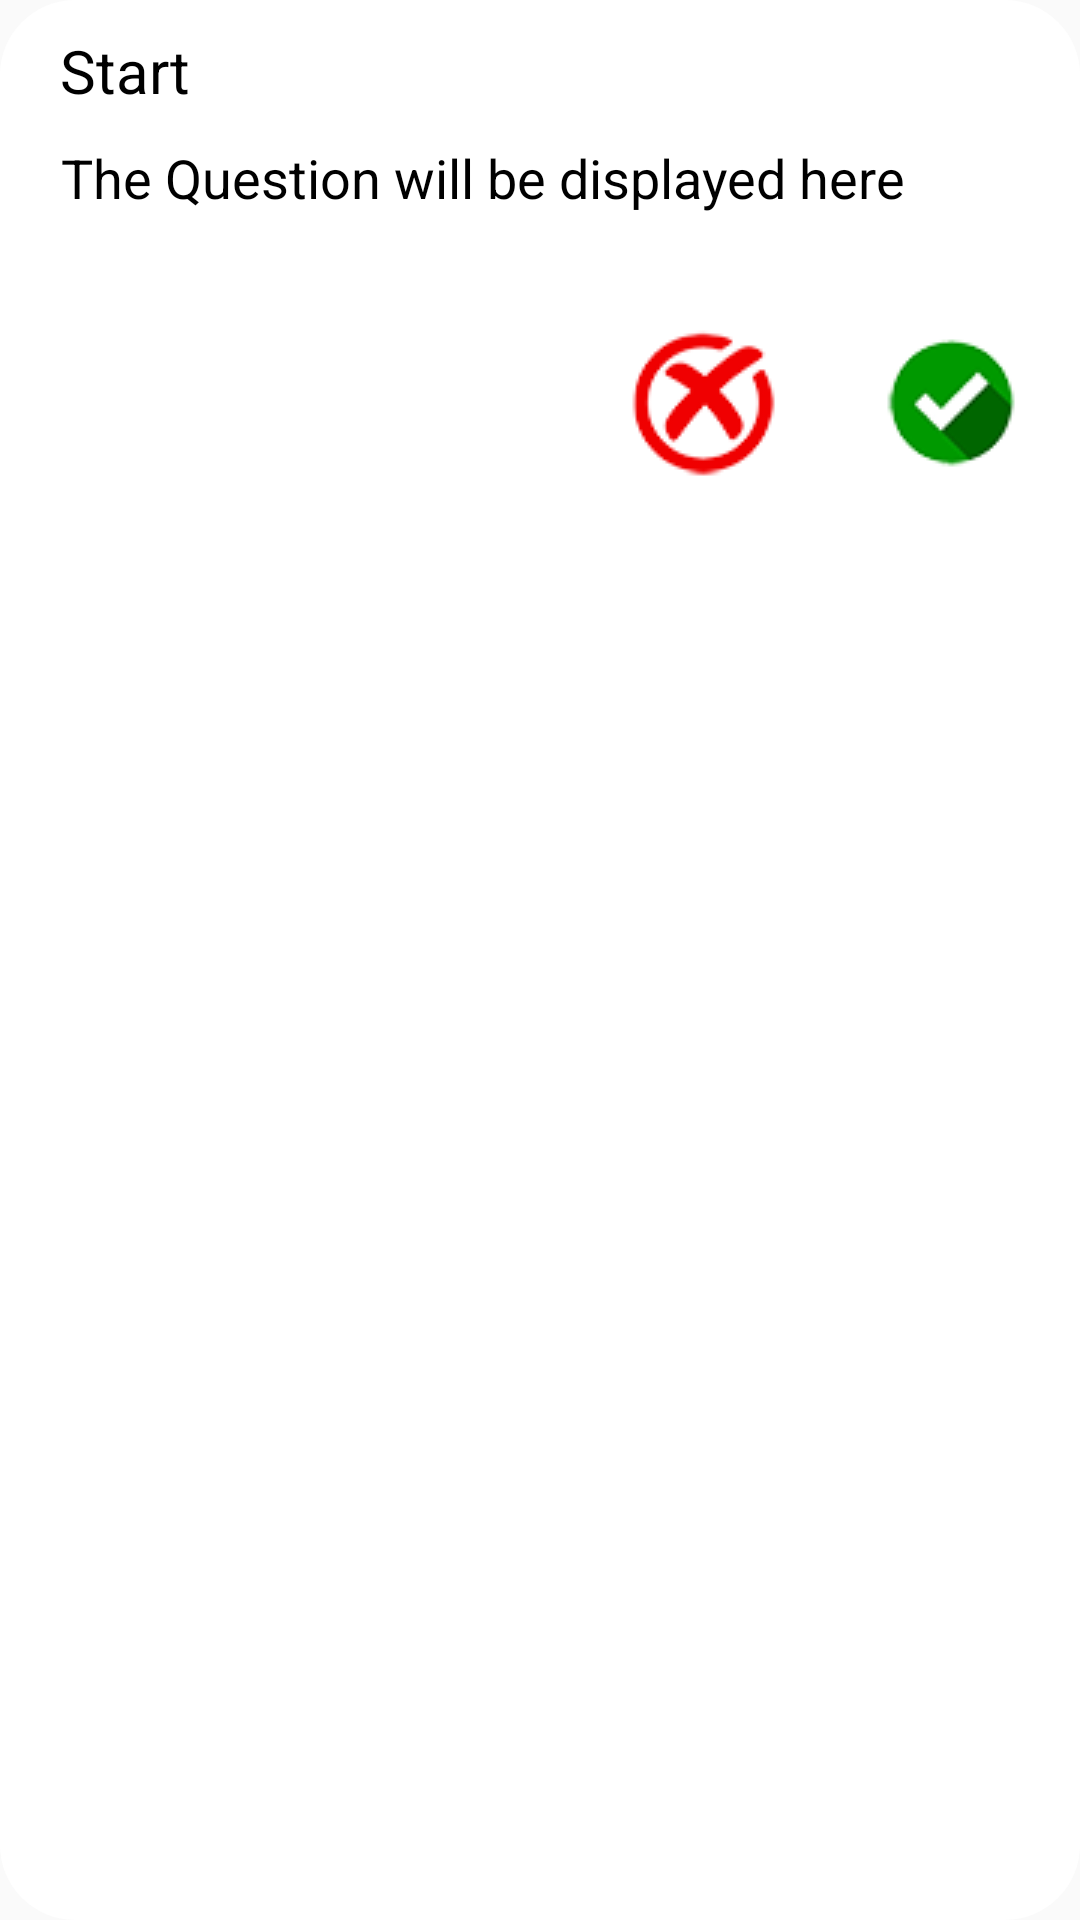

Point at icon controls on the screen. Image size 1080w x 1920h, points as [x,y].
cross: [703,404]
tick: [951,403]
